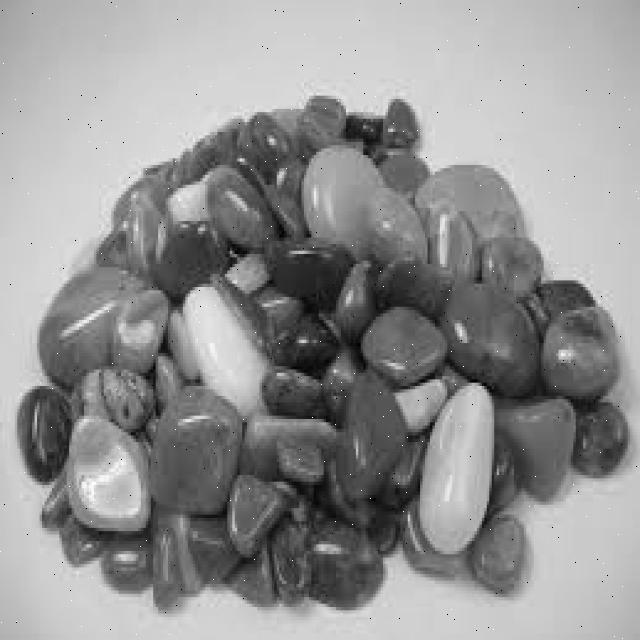Metamorphic: (20, 92, 620, 614)
